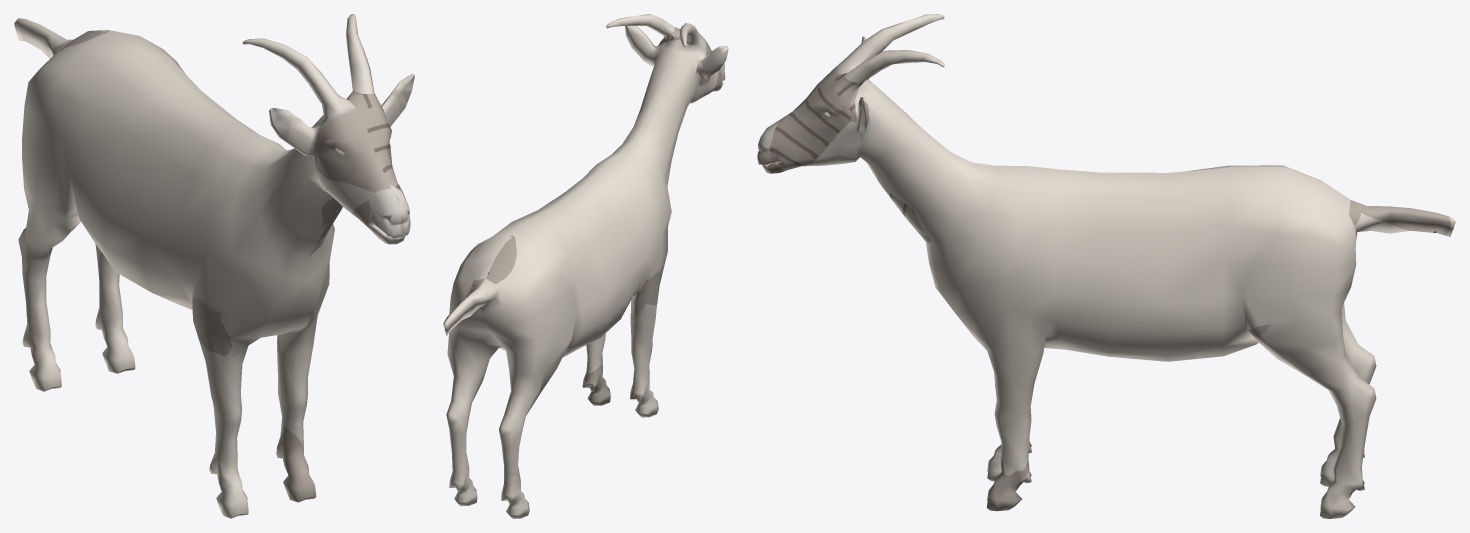
File: A_Goat.fbx
3 renders of one model, left to right at view 1: azimuth 30°, elevation 25°; view 2: azimuth 150°, elevation 25°; view 3: azimuth 270°, elevation 25°, orthographic. The views are drawn at different scales.
Visible parts, largest first — view 1: A_Goat; view 2: A_Goat; view 3: A_Goat.
Part boxes in pixels (box(x1,y1,x2,y2)): A_Goat: box(14, 14, 414, 518); A_Goat: box(443, 14, 728, 518); A_Goat: box(757, 14, 1455, 518).
Bounding box in the file's own units: 0.2572 × 0.8665 × 1.18.
